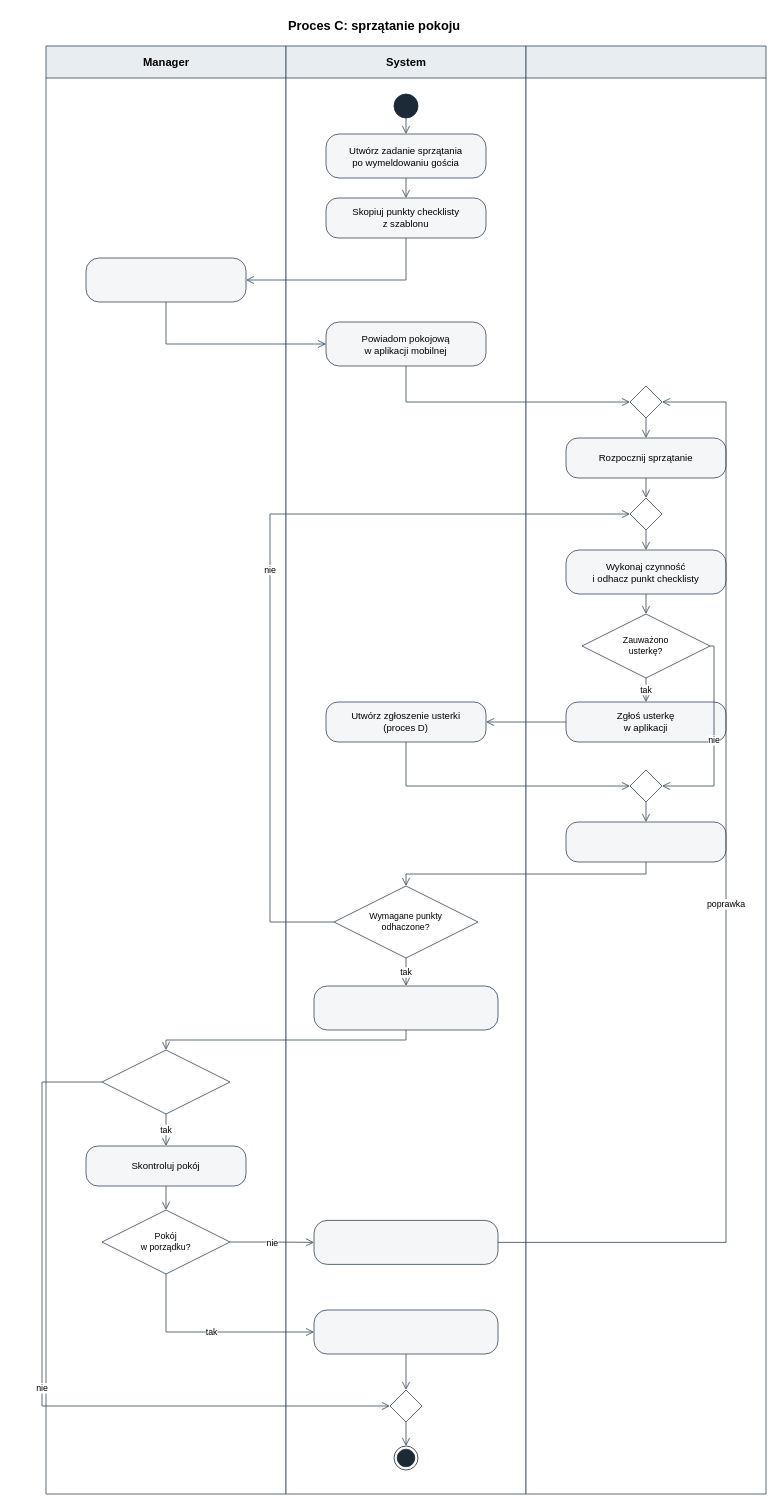
Image size: 780x1508. Some labels were removed from this diagram. Each missing label, with the box of its shape:
Kontrola potrzebna?: (101, 1049, 230, 1114)
Oznacz zadanie jako zakończone, pokój jako „czysty”: (313, 985, 498, 1030)
Pokojowa: (525, 45, 766, 1494)
Przydziel zadanie pokojowej: (85, 257, 246, 302)
Zakończ sprzątanie: (565, 821, 726, 862)
Zapisz uwagi, ustaw zadanie „do poprawki”, pokój „brudny”: (313, 1220, 498, 1264)
Zatwierdź zadanie, pokój „sprawdzony”: (313, 1309, 498, 1354)
